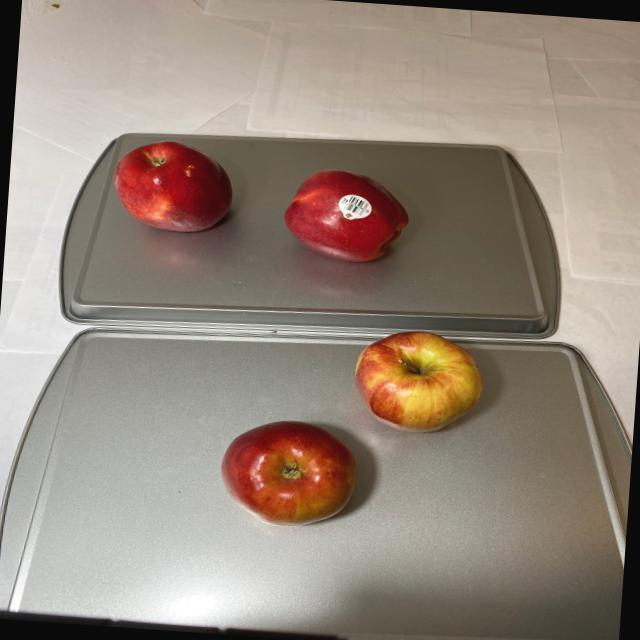apple: (210, 317, 492, 541), (101, 136, 419, 272)
